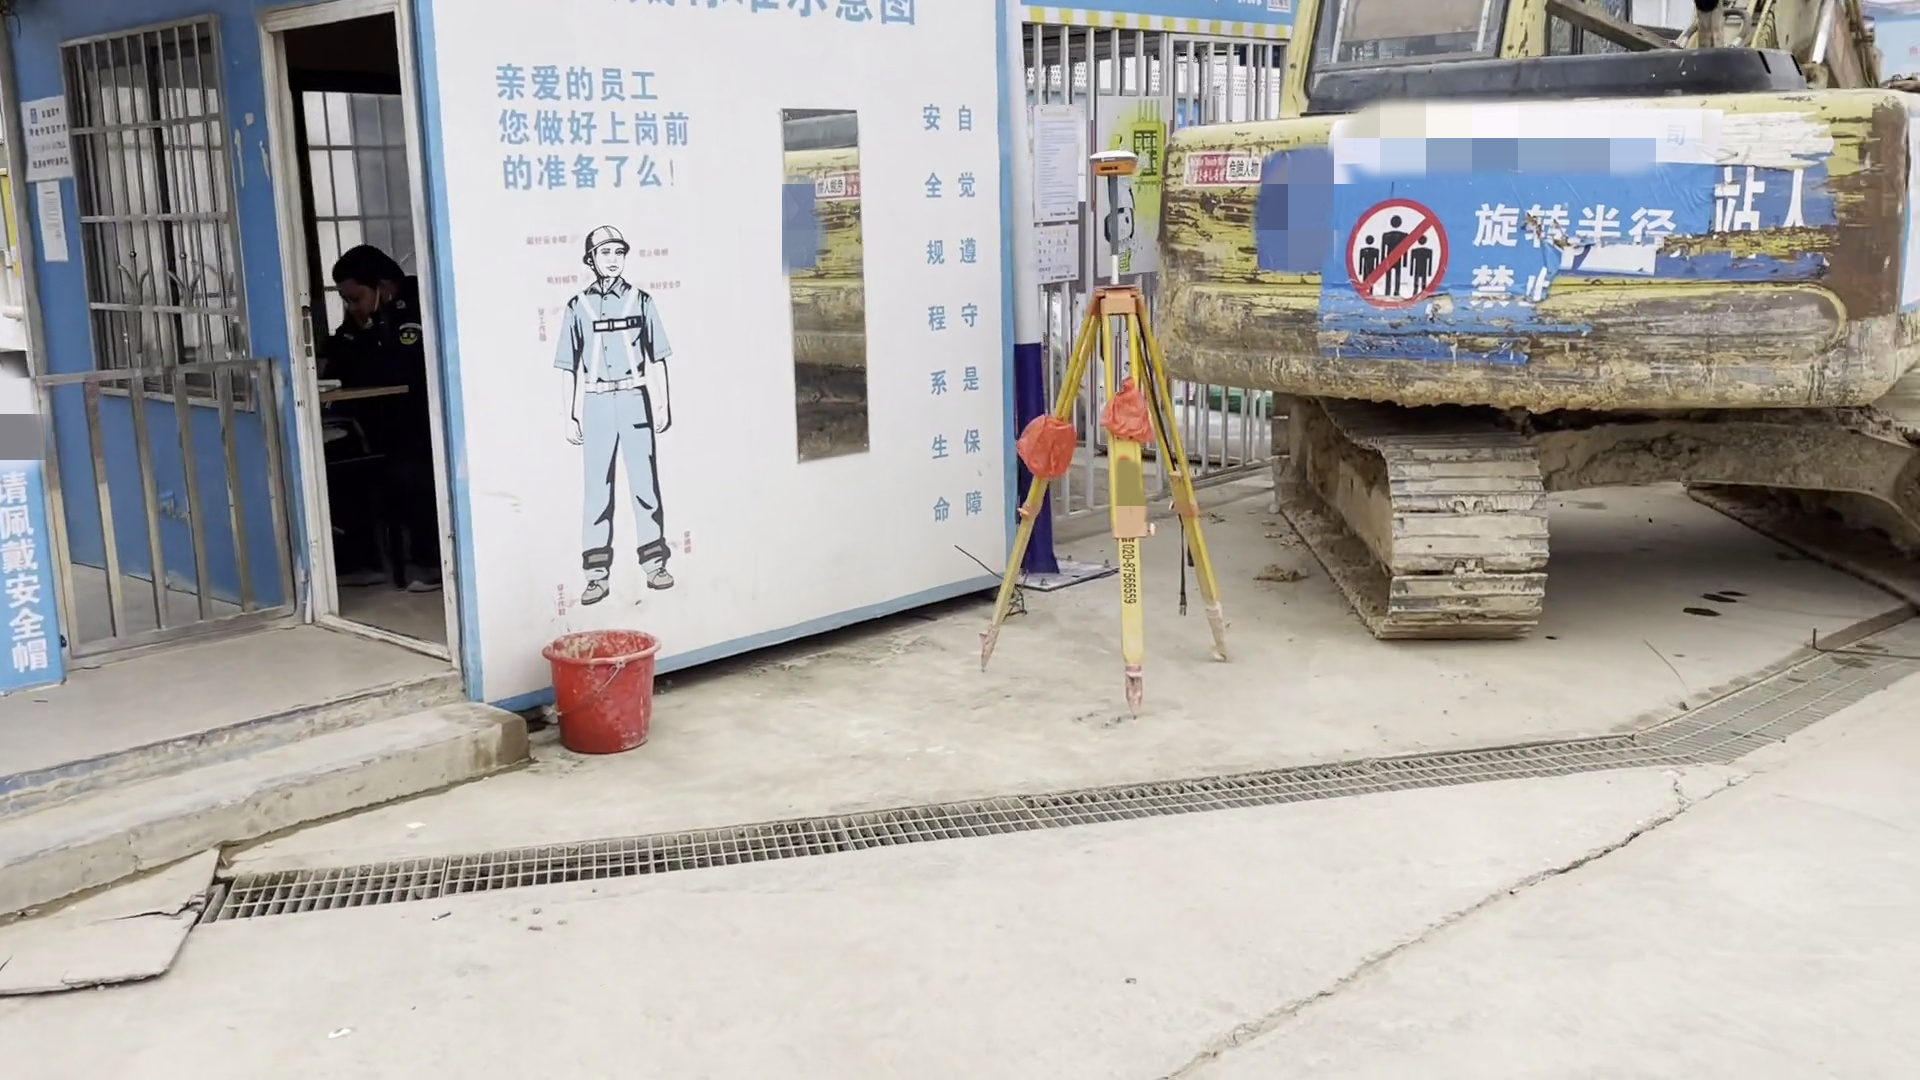slogan: (1325, 152, 1706, 338), (3, 464, 67, 692)
